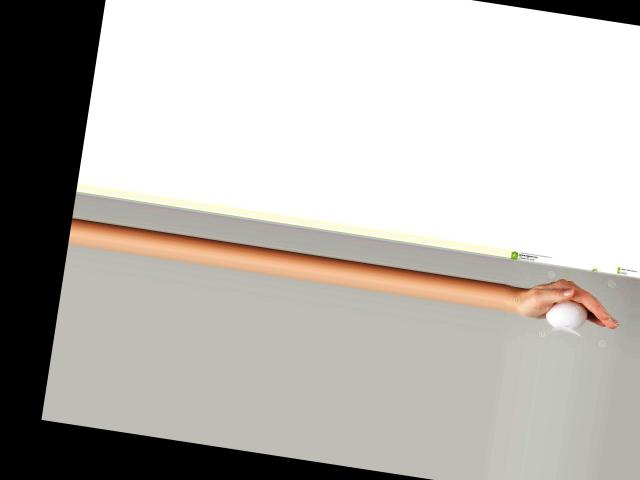egg: (544, 297, 590, 331)
